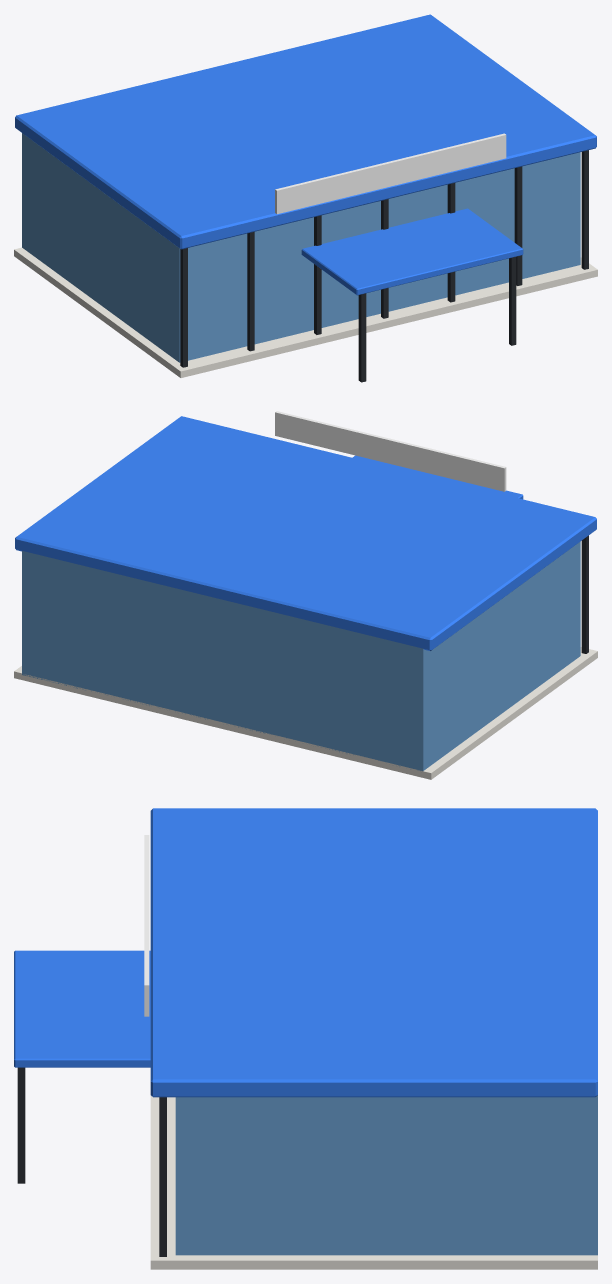
Rendered from dealership.glb.
3 views of the same model, one above another, from view 1: azimuth 30°, elevation 25°; view 2: azimuth 150°, elevation 25°; view 3: azimuth 270°, elevation 25° (orthographic). The views are drawn at different scales.
Visible parts, largest first — view 1: dealership_walls, dealership_sign; view 2: dealership_walls, dealership_sign; view 3: dealership_walls, dealership_sign.
Boxes of the visible parts, x1=… form: dealership_walls: x1=14, y1=14, x2=597, y2=382; dealership_sign: x1=275, y1=133, x2=506, y2=214; dealership_walls: x1=14, y1=416, x2=597, y2=779; dealership_sign: x1=275, y1=411, x2=506, y2=491; dealership_walls: x1=14, y1=808, x2=597, y2=1269; dealership_sign: x1=144, y1=835, x2=149, y2=1016.
Size of the model in its own units: 26 by 9.9 by 23.5.
